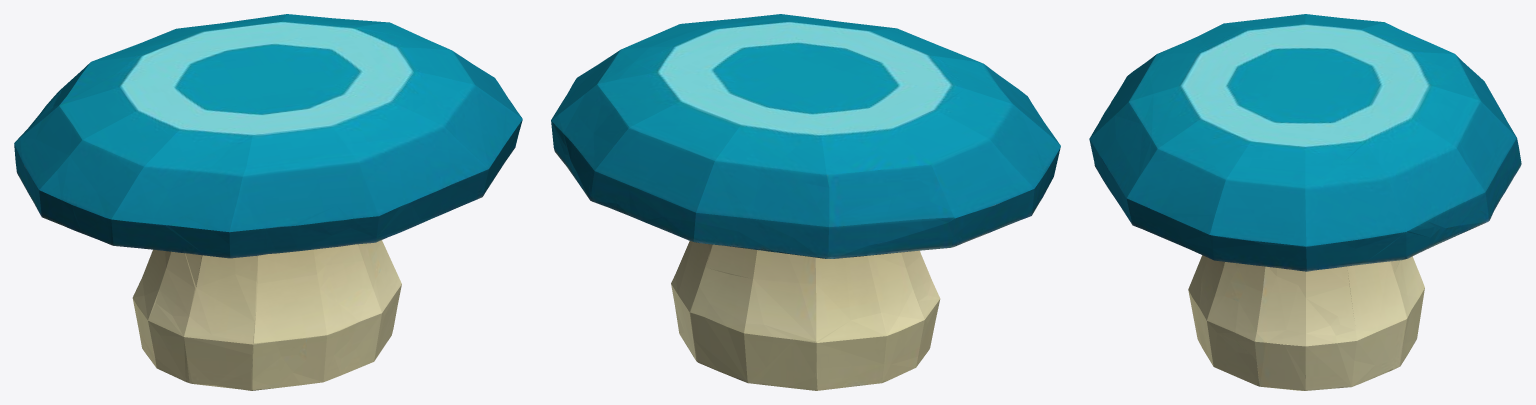
Rendered from mycelium_tremplin.glb.
The picture shows the model from 3 angles, left to right: view 1: azimuth 30°, elevation 25°; view 2: azimuth 150°, elevation 25°; view 3: azimuth 270°, elevation 25°; orthographic projection. The views are drawn at different scales.
Parts seen in each view (by area): view 1: geometry_0; view 2: geometry_0; view 3: geometry_0.
Part boxes in pixels (x1=…): geometry_0: x1=14, y1=14, x2=522, y2=390; geometry_0: x1=551, y1=14, x2=1060, y2=390; geometry_0: x1=1089, y1=14, x2=1521, y2=390.
Bounding box in the file's own units: 0.9986 × 0.5487 × 0.8466.
Materials: 1 (1 with a texture image).
